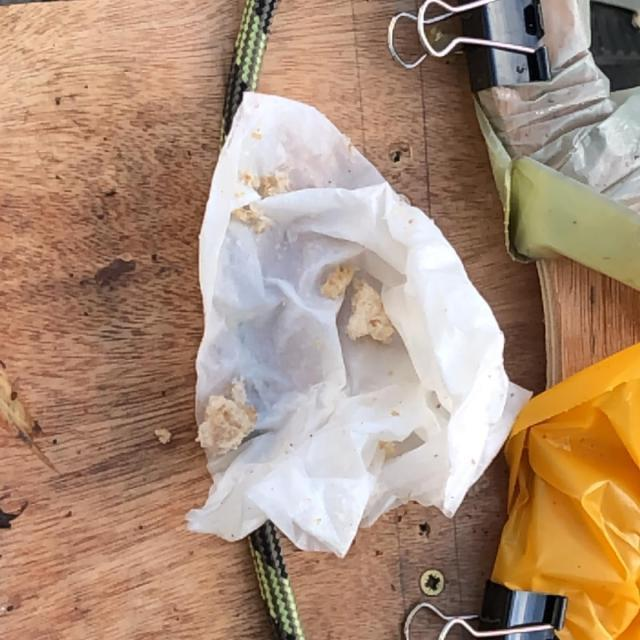Paper: (183, 90, 536, 564)
